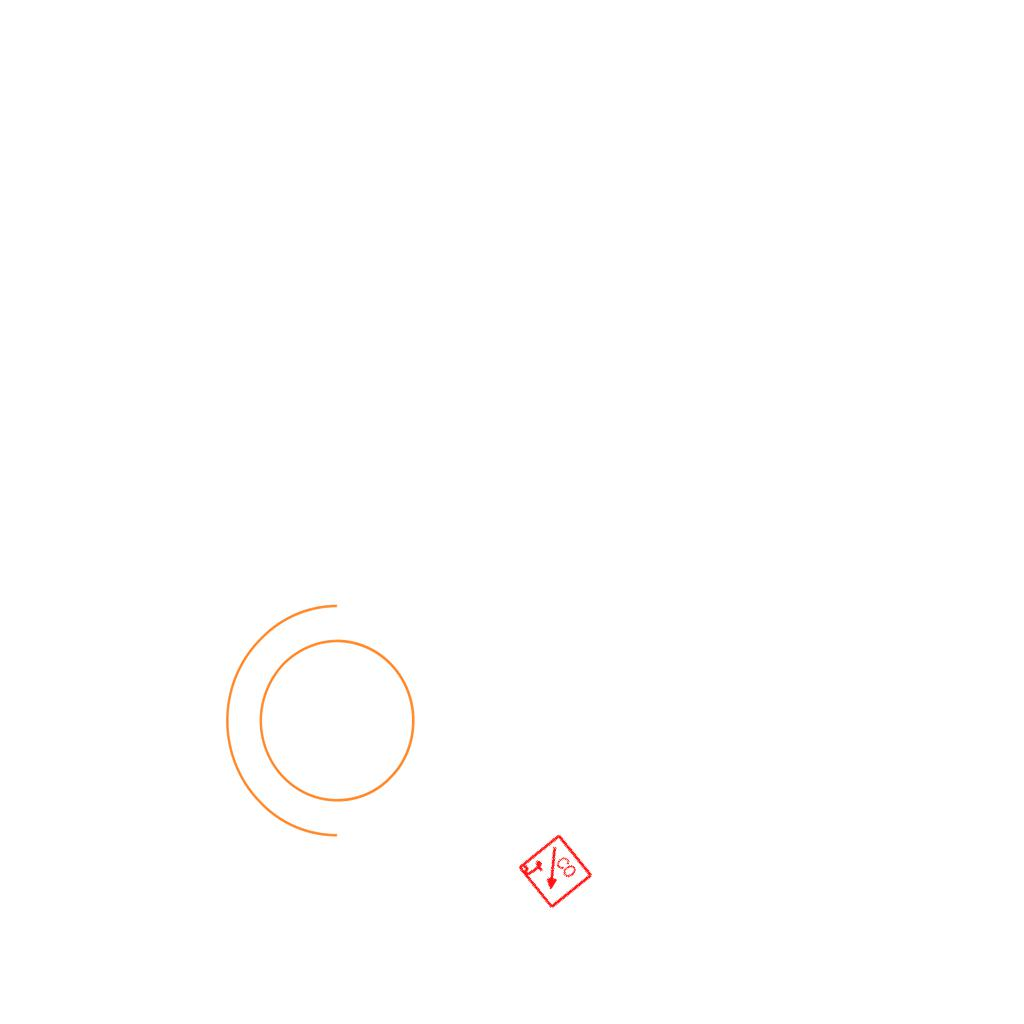ROA_Rauchmelder_optisch_mit_Signalgeber_(Sockelsirene): (515, 832, 595, 912)
Scheinwerfer_fuer_Alarmbeleuchtung: (215, 595, 440, 859)
